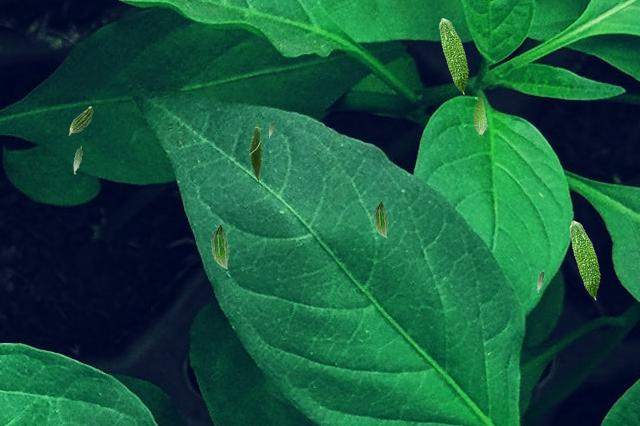ampalaya: (569, 220, 601, 300), (439, 17, 469, 95), (248, 120, 264, 181), (210, 223, 229, 269), (68, 106, 93, 135), (472, 94, 488, 136), (373, 200, 388, 238), (73, 145, 82, 174), (536, 269, 544, 293), (268, 120, 274, 138)
